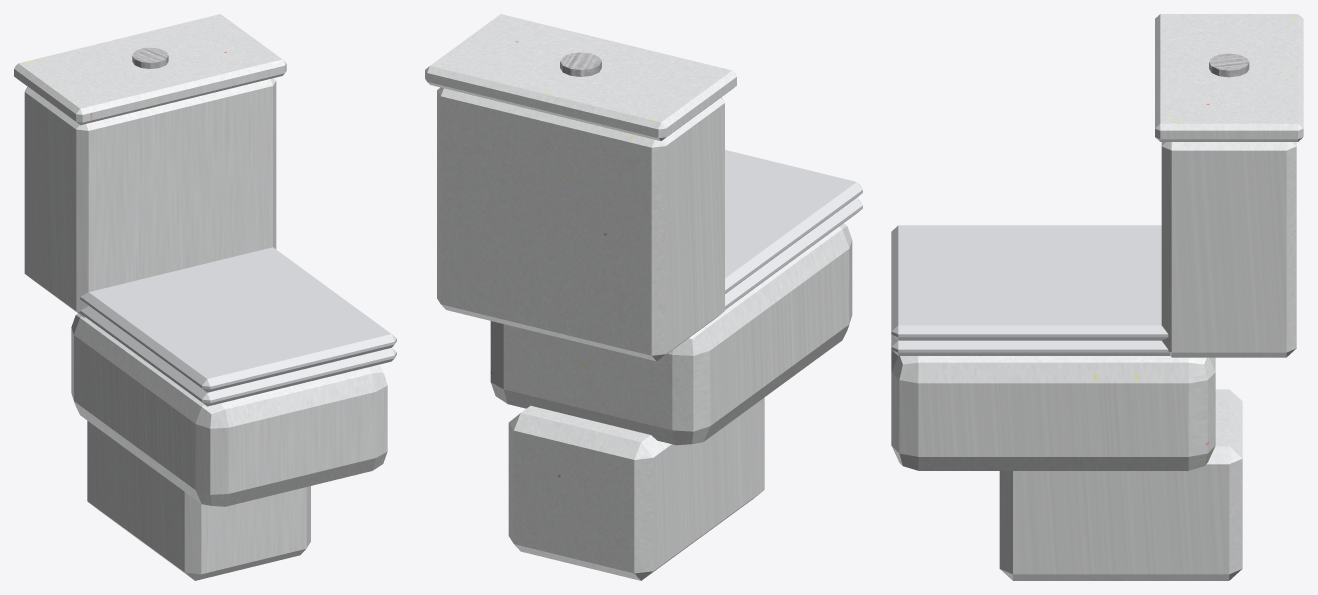
File: 09_Inodoro_Bano.obj
3 renders of one model, left to right at view 1: azimuth 30°, elevation 25°; view 2: azimuth 150°, elevation 25°; view 3: azimuth 270°, elevation 25°, orthographic. The views are drawn at different scales.
Visible parts, largest first — view 1: 09_Inodoro_Bano; view 2: 09_Inodoro_Bano; view 3: 09_Inodoro_Bano.
Part boxes in pixels (box(x1,y1,x2,y2)): 09_Inodoro_Bano: box(14, 14, 396, 580); 09_Inodoro_Bano: box(425, 14, 862, 580); 09_Inodoro_Bano: box(891, 14, 1303, 580).
Bounding box in the file's own units: 0.4 × 0.801 × 0.61.
